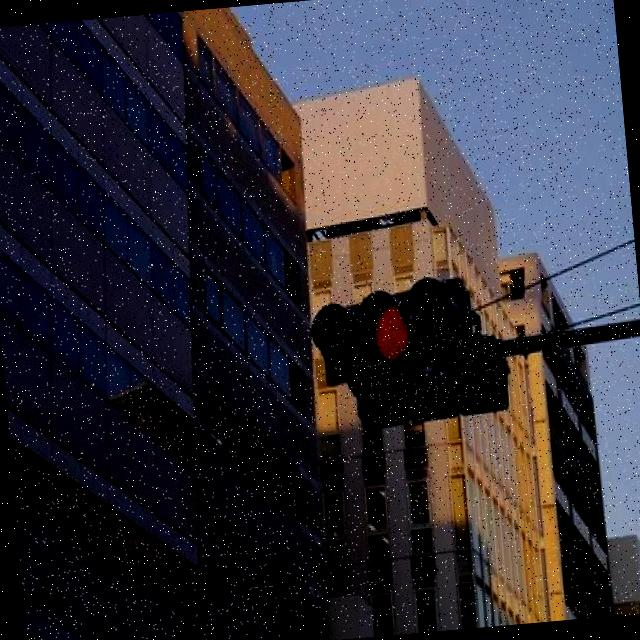yellow_light: (369, 286, 404, 384)
